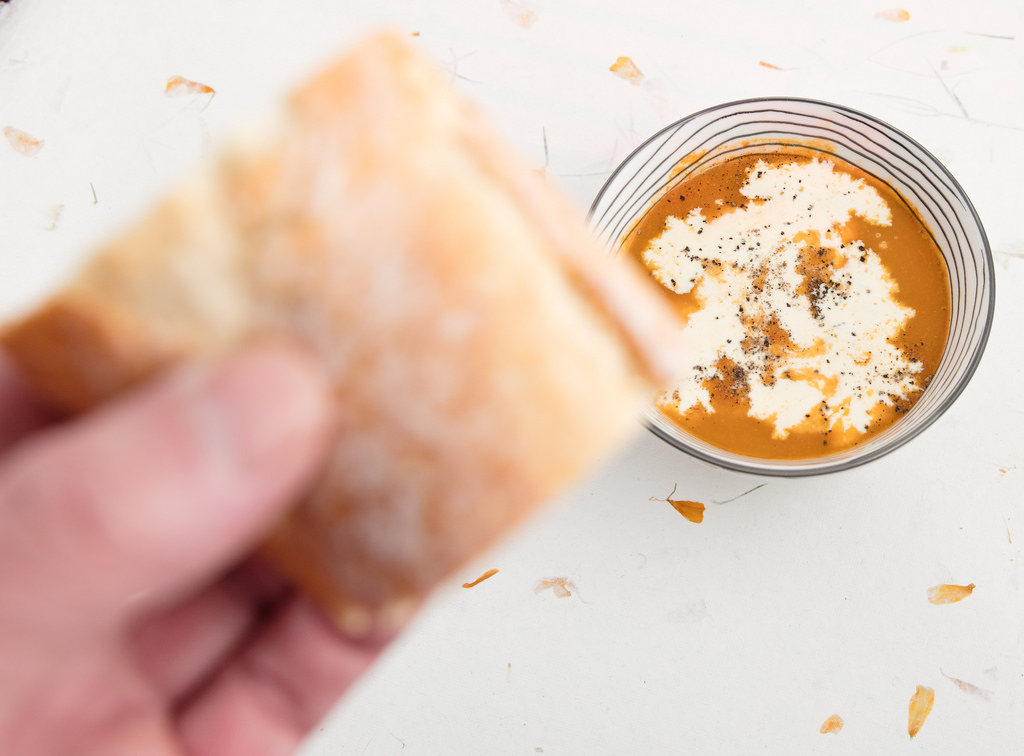slice of bread: (32, 110, 710, 639)
